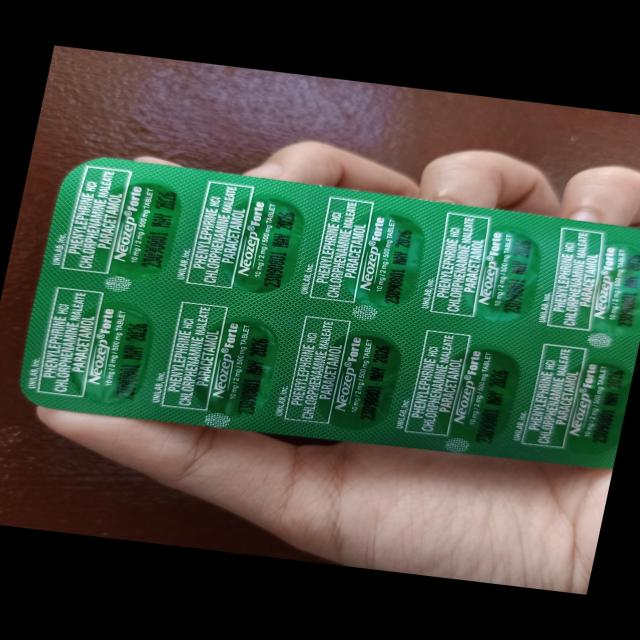Neozep_Strip: (3, 132, 640, 488)
